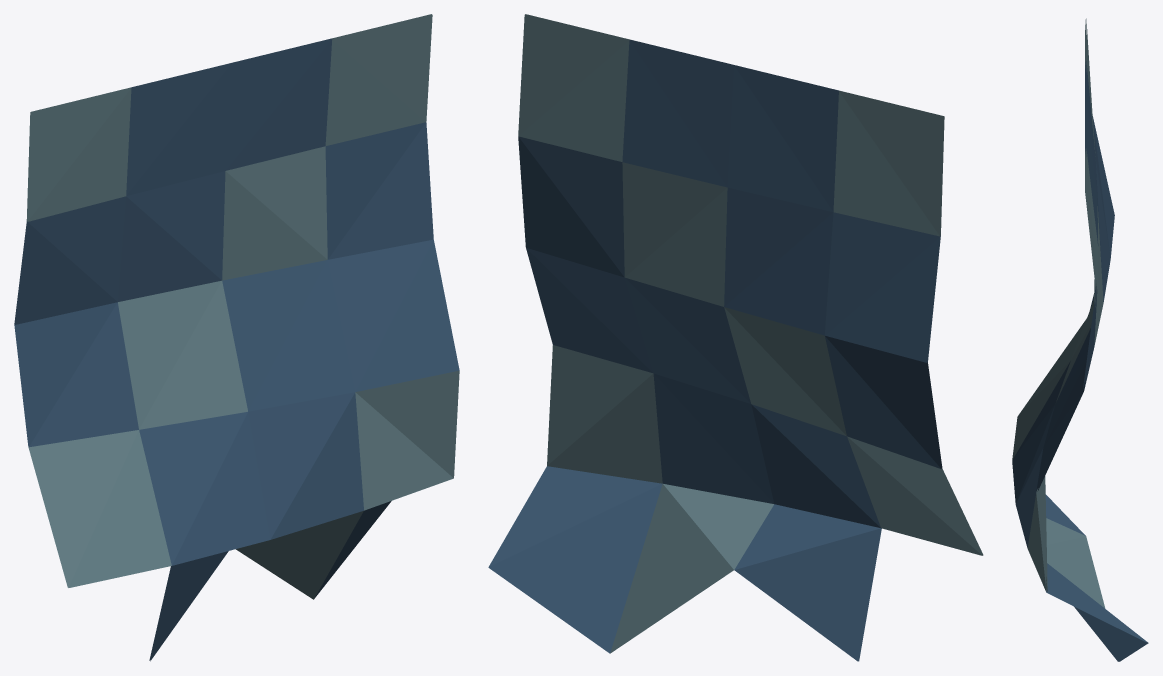
The model's file is plastic_flap_f0.glb.
3 renders of one model, left to right at view 1: azimuth 30°, elevation 25°; view 2: azimuth 150°, elevation 25°; view 3: azimuth 270°, elevation 25°, orthographic. The views are drawn at different scales.
Parts seen in each view (by area): view 1: plastic_flap_f0; view 2: plastic_flap_f0; view 3: plastic_flap_f0.
Boxes of the visible parts, x1=… form: plastic_flap_f0: x1=14, y1=14, x2=459, y2=661; plastic_flap_f0: x1=488, y1=14, x2=983, y2=661; plastic_flap_f0: x1=1012, y1=18, x2=1148, y2=661.
Bounding box in the file's own units: 1.2 × 1.64 × 0.3937.
2 materials, 2 textured.
